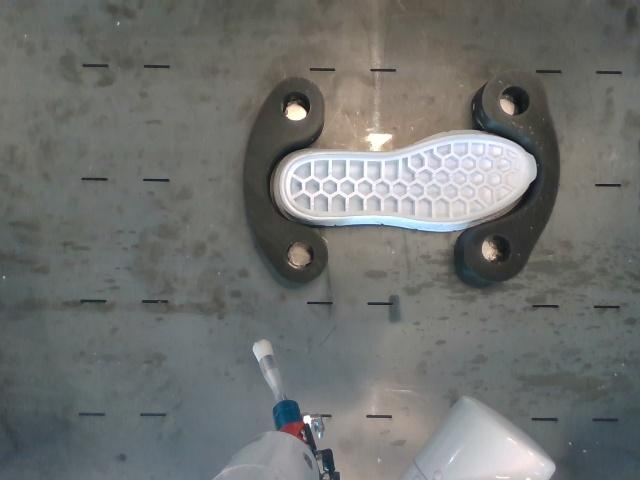shoes: (283, 135, 536, 223)
